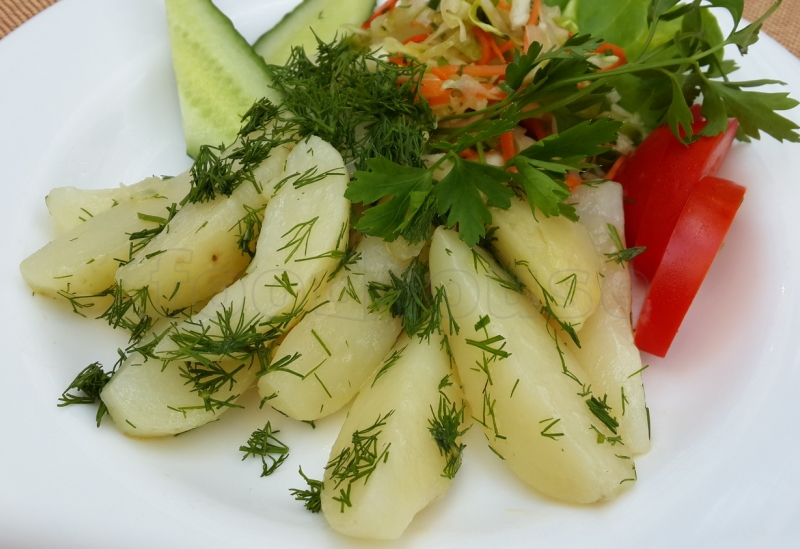boiled potatoes: (88, 206, 624, 482)
